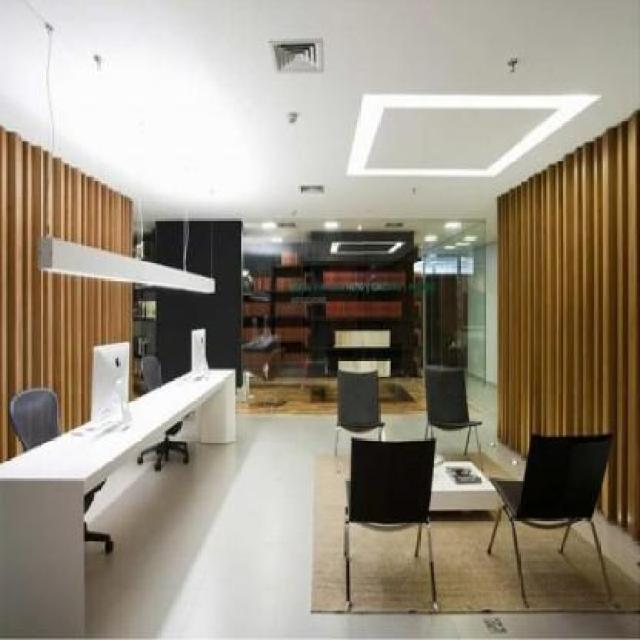frontdesk: (0, 346, 243, 640)
